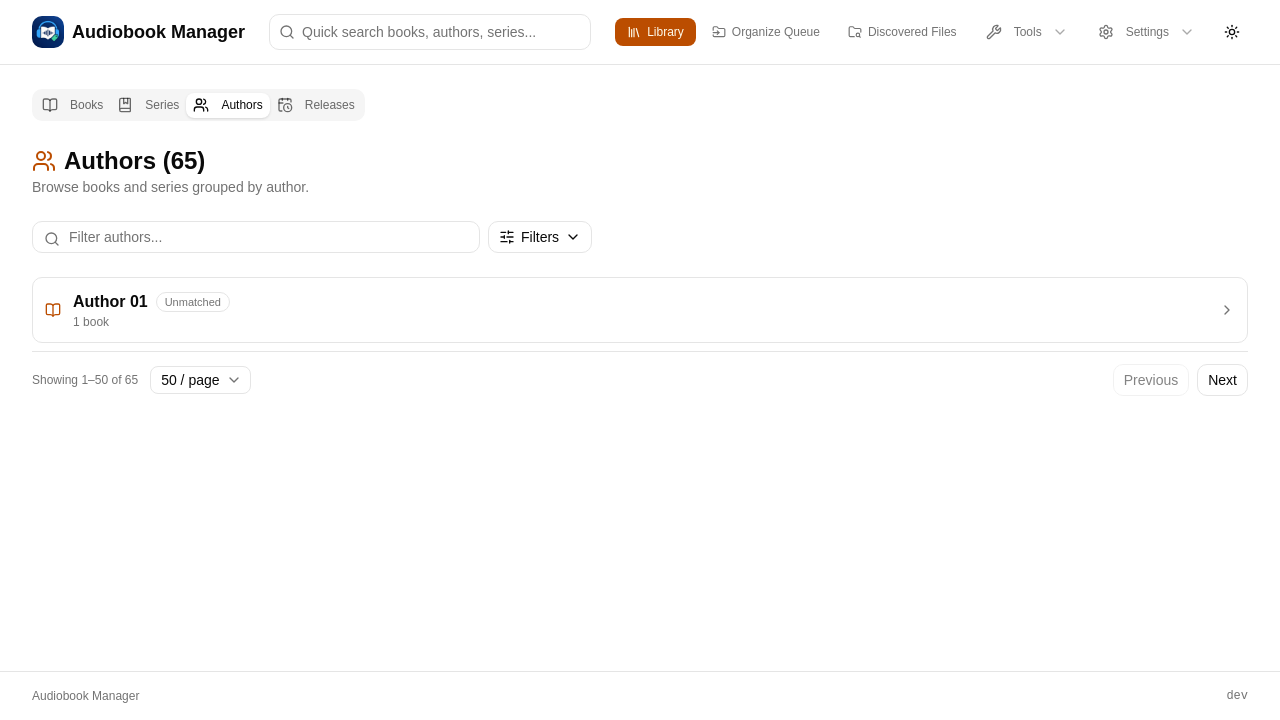
Test: AuthorsList › pages server-side via limit/offset
Click the button "Next": (1223, 380) [1197,364,1248,396]
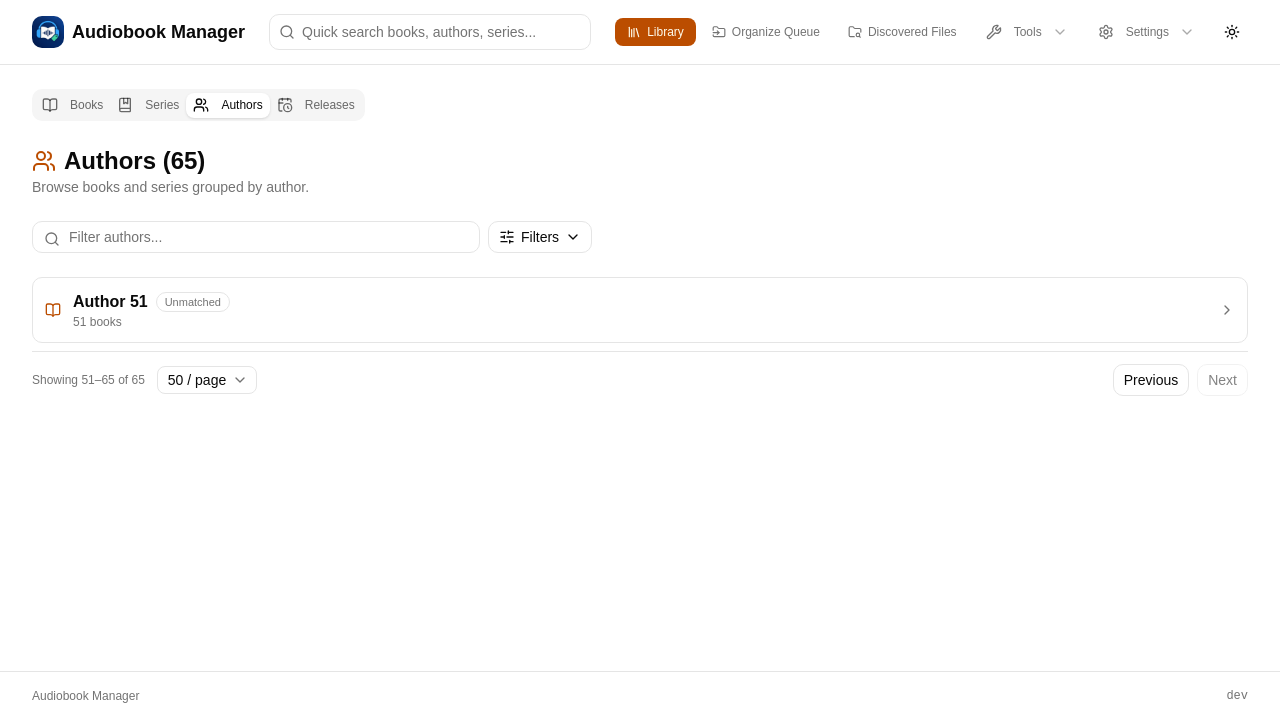
Expected: the text "Author 51" is shown, [73,290,148,314]
